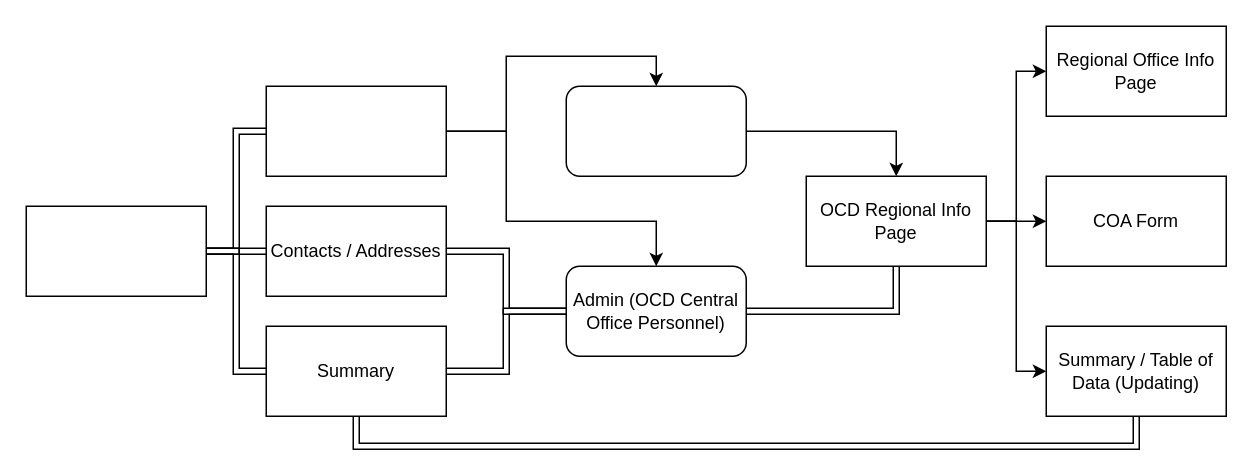
Some shapes in this 1253 by 476 pixel diagram are drawn without their labels. The box of each missing label's shape, as (x1, y1, x2, y2) in pixels:
Info / Main Page: (25, 205, 206, 296)
Login: (265, 85, 446, 176)
OCD Regional Office Focal Personnel: (565, 85, 746, 176)
